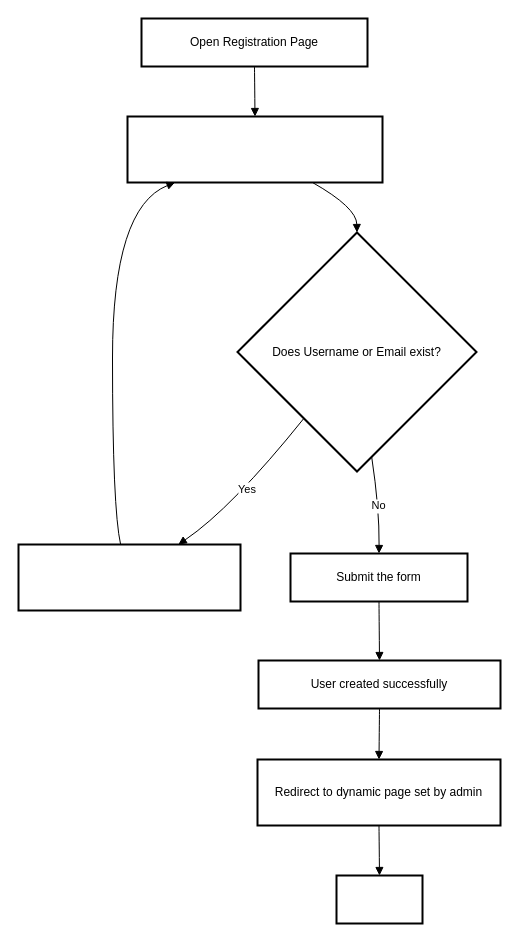
Some shapes in this 518 by 941 pixel diagram are drawn without their labels. Each missing label, with the centre of its shape:
"Display warning" belongs at point (129, 577).
"End" belongs at point (379, 899).
"User fills Username, Email, and other required fields" belongs at point (254, 149).
